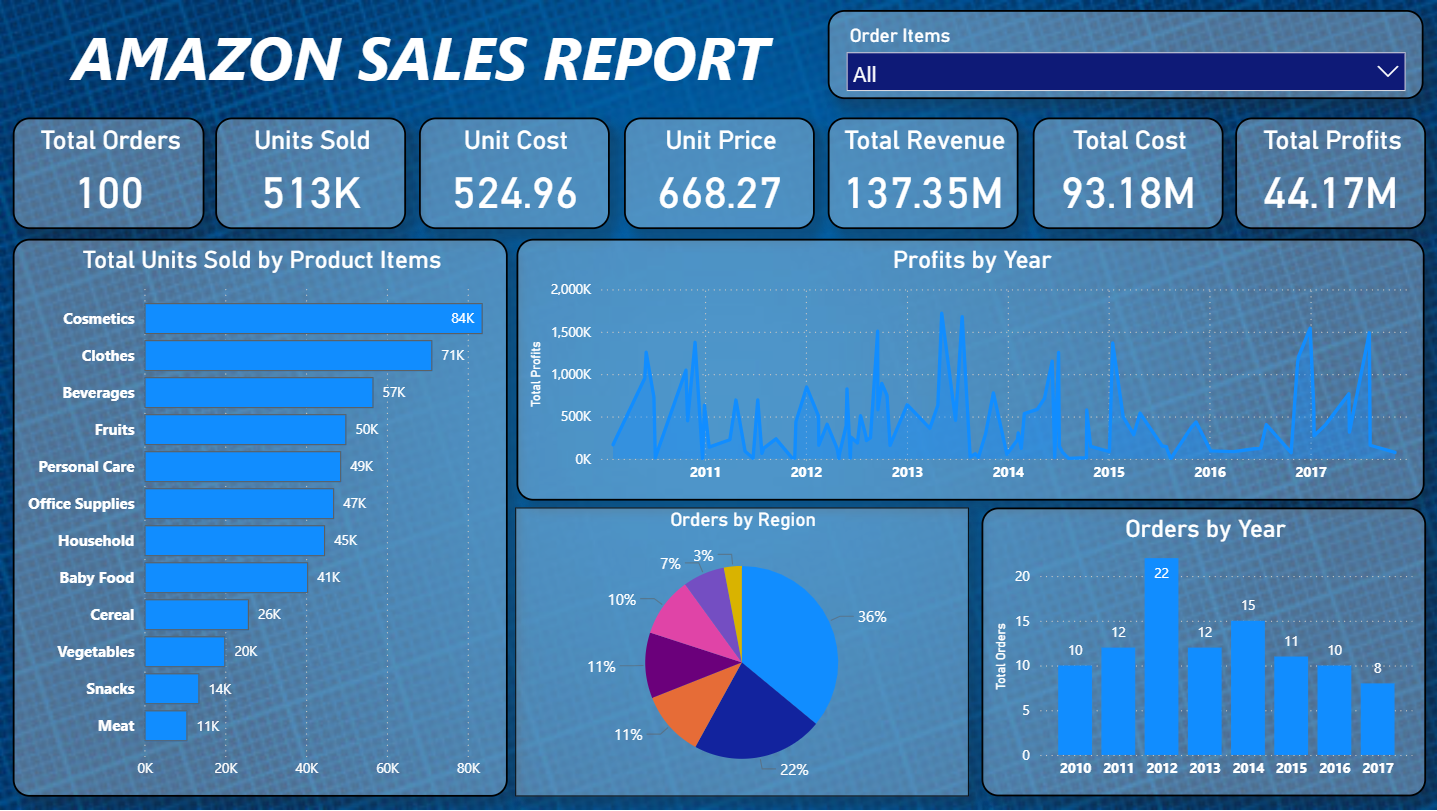

The dashboard page shown, as its layout file describes it:
{"tool":"powerbi","page":{"name":"Page 1","canvas":[1280,720],"ordinal":0},"visuals":[{"type":"card","title":"Total Orders","fields":{"Values":["CountNonNull(AmazonSalesData (2).Order ID)"]},"box":[12.1,104.9,170.8,99.5],"z":0},{"type":"textbox","box":[12.1,9.4,724.9,95.5],"z":1000},{"type":"slicer","fields":{"Values":["AmazonSalesData (2).Item Type"]},"box":[737,9.4,529.9,79.3],"z":2000},{"type":"card","title":"Unit Cost","fields":{"Values":["Max(AmazonSalesData (2).Unit Cost)"]},"box":[373.9,104.9,169.4,99.5],"z":3000},{"type":"card","title":"Unit Price ","fields":{"Values":["Max(AmazonSalesData (2).Unit Price)"]},"box":[555.4,104.9,169.4,99.5],"z":4000},{"type":"card","title":"Units Sold","fields":{"Values":["Sum(AmazonSalesData (2).Units Sold)"]},"box":[192.3,104.9,169.4,99.5],"z":5000},{"type":"card","title":"Total Revenue","fields":{"Values":["Sum(AmazonSalesData (2).Total Revenue)"]},"box":[737,104.9,169.4,99.5],"z":6000},{"type":"card","title":"Total Cost ","fields":{"Values":["Sum(AmazonSalesData (2).Total Cost)"]},"box":[918.5,104.9,169.4,99.5],"z":7000},{"type":"card","title":"Total Profits","fields":{"Values":["Sum(AmazonSalesData (2).Total Profit)"]},"box":[1098.7,104.9,169.4,99.5],"z":8000},{"type":"barChart","title":"Total Units Sold by Product Items","fields":{"Category":["AmazonSalesData (2).Product Item"],"Y":["Sum(AmazonSalesData (2).Units Sold)"]},"box":[12.1,212.5,439.8,496.2],"z":9000},{"type":"stackedAreaChart","title":"Profits by Year","fields":{"Category":["AmazonSalesData (2).Order Date"],"Y":["Sum(AmazonSalesData (2).Total Profit)"]},"box":[459.9,212.2,806.9,232.7],"z":10000},{"type":"columnChart","title":"Orders by Year","fields":{"Category":["AmazonSalesData (2).Order Date.Variation.Date Hierarchy.Year"],"Y":["CountNonNull(AmazonSalesData (2).Order ID)"]},"box":[871.4,451.9,395.4,256.9],"z":11000},{"type":"pieChart","title":" Orders by Region","fields":{"Y":["CountNonNull(AmazonSalesData (2).Order ID)"],"Category":["AmazonSalesData (2).Region"]},"box":[459.9,451.9,403.4,256.9],"z":12000}]}

Visuals, with their boxes in screenshot pixels (x1, y1, x2, y2), scaled from the page's 1280x720 canvas onto the 1437x811 screenshot:
"Total Orders" card: pyautogui.locateOnScreen(14, 118, 205, 230)
textbox: pyautogui.locateOnScreen(14, 11, 827, 118)
slicer - AmazonSalesData (2).Item Type: pyautogui.locateOnScreen(827, 11, 1422, 100)
"Unit Cost" card: pyautogui.locateOnScreen(420, 118, 610, 230)
"Unit Price " card: pyautogui.locateOnScreen(624, 118, 814, 230)
"Units Sold" card: pyautogui.locateOnScreen(216, 118, 406, 230)
"Total Revenue" card: pyautogui.locateOnScreen(827, 118, 1018, 230)
"Total Cost " card: pyautogui.locateOnScreen(1031, 118, 1221, 230)
"Total Profits" card: pyautogui.locateOnScreen(1233, 118, 1424, 230)
"Total Units Sold by Product Items" barChart: pyautogui.locateOnScreen(14, 239, 507, 798)
"Profits by Year" stackedAreaChart: pyautogui.locateOnScreen(516, 239, 1422, 501)
"Orders by Year" columnChart: pyautogui.locateOnScreen(978, 509, 1422, 798)
" Orders by Region" pieChart: pyautogui.locateOnScreen(516, 509, 969, 798)
